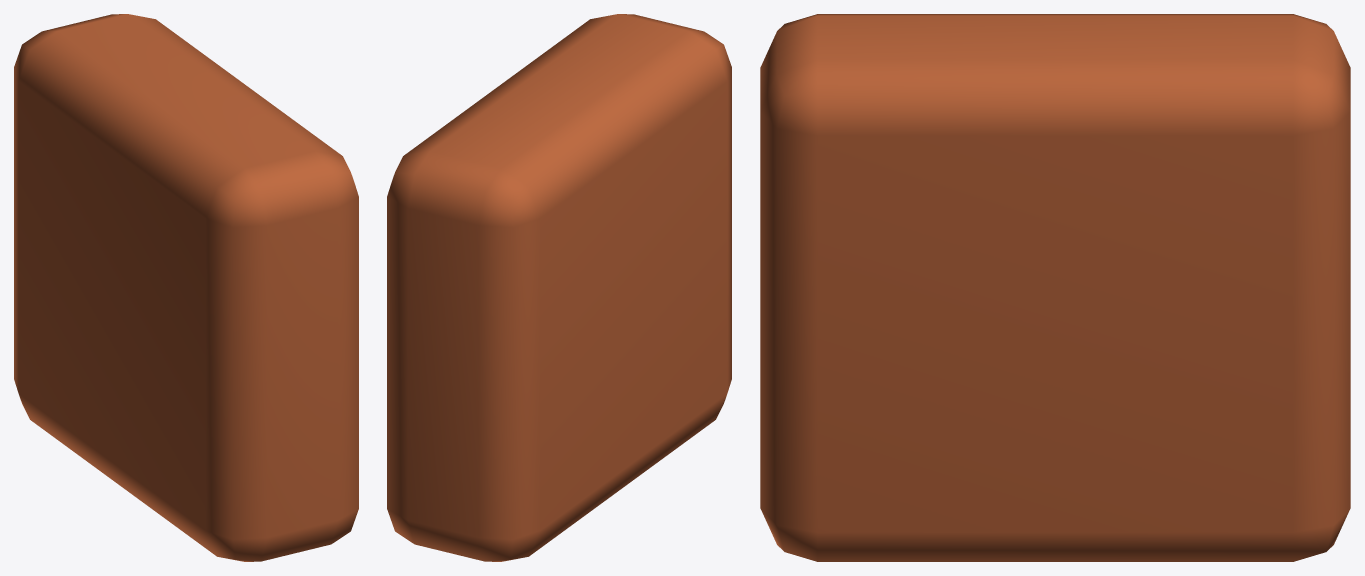
File: SM_brick_01_S.glb
3 renders of one model, left to right at view 1: azimuth 30°, elevation 25°; view 2: azimuth 150°, elevation 25°; view 3: azimuth 270°, elevation 25°, orthographic. The views are drawn at different scales.
Visible parts, largest first — view 1: SM_brick_01_S; view 2: SM_brick_01_S; view 3: SM_brick_01_S.
Boxes of the visible parts, x1,y1,x2,y2 form: SM_brick_01_S: (14,14,358,561); SM_brick_01_S: (387,14,731,561); SM_brick_01_S: (760,14,1350,561).
Bounding box in the file's own units: 0.0761 × 0.1925 × 0.2058.
1 material, 1 textured.
